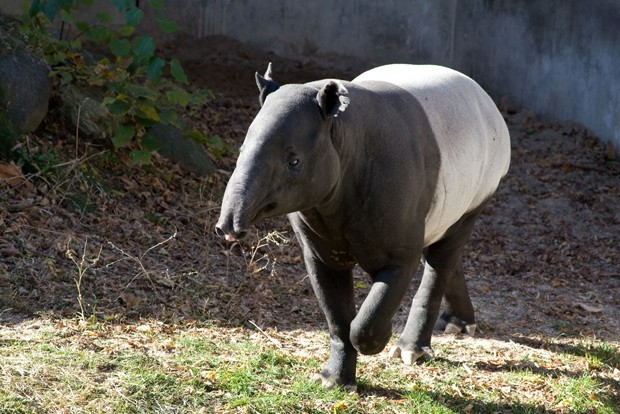Anta: (205, 53, 520, 397)
